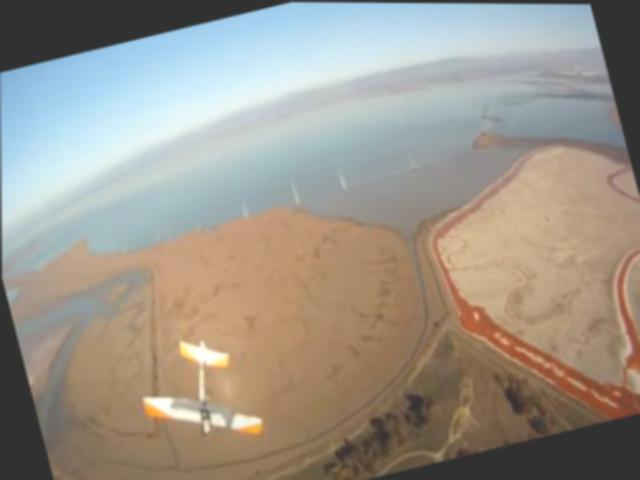uav: (119, 317, 270, 471)
